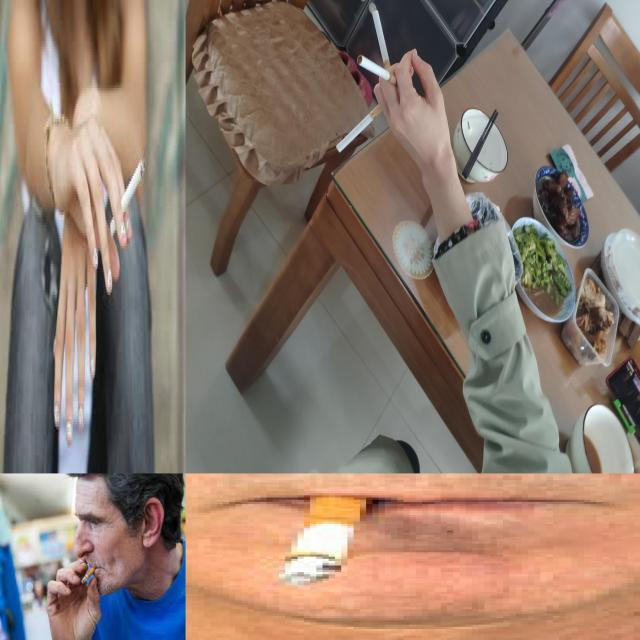cigarette: (280, 490, 370, 586), (110, 155, 146, 239), (336, 102, 386, 154), (372, 10, 396, 78), (357, 54, 399, 86), (81, 567, 95, 584)
